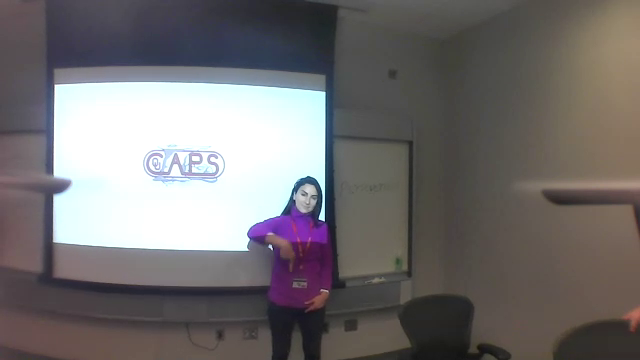down: (279, 240, 297, 277)
